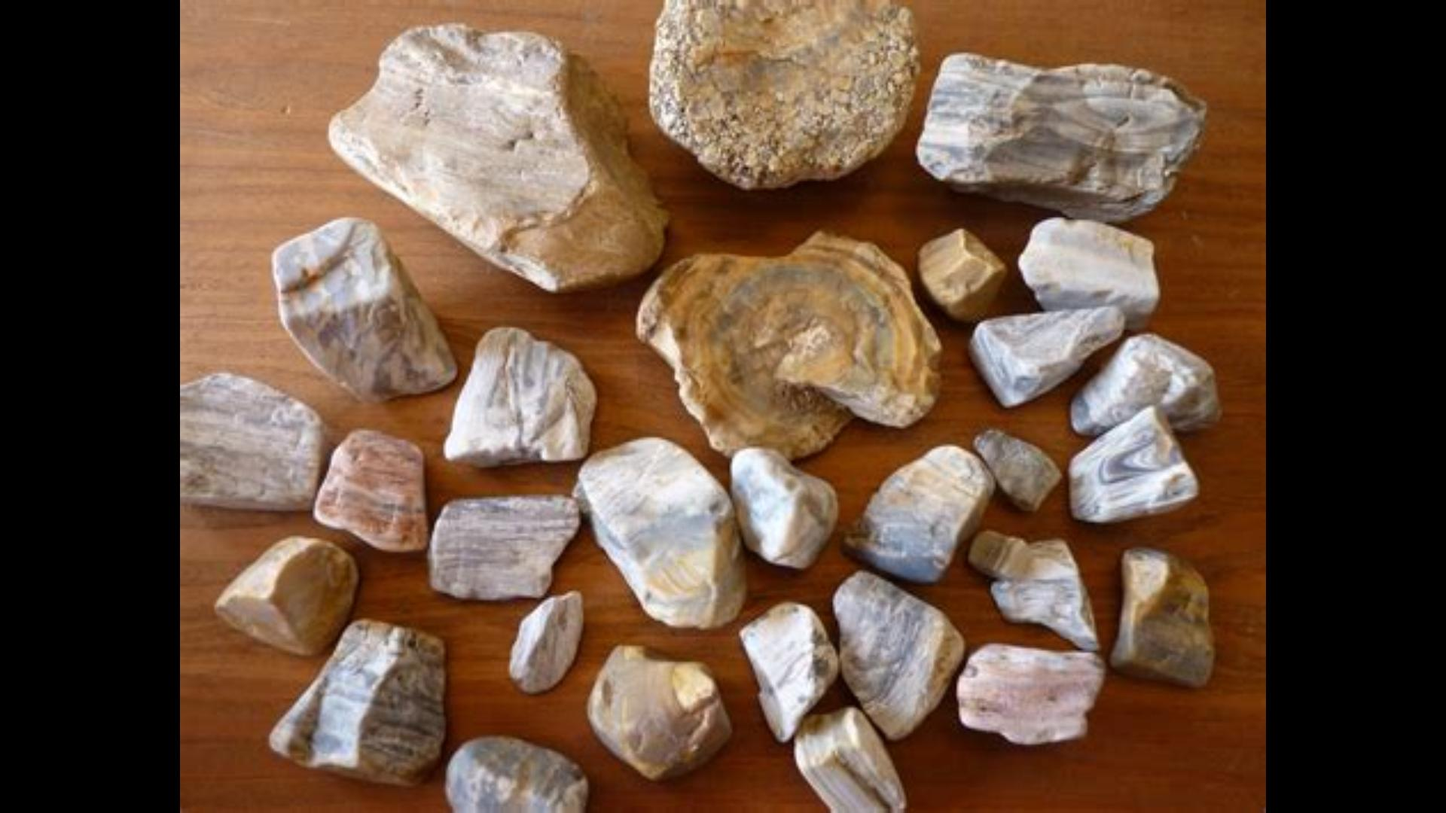rock: (331, 25, 663, 289), (636, 234, 938, 456), (652, 0, 915, 186), (918, 53, 1204, 220), (276, 218, 455, 398), (574, 437, 744, 625), (272, 621, 443, 781), (443, 327, 595, 465), (835, 573, 961, 737), (844, 444, 991, 582), (180, 376, 327, 508), (588, 646, 730, 779), (214, 536, 356, 653), (968, 531, 1096, 648), (1019, 218, 1158, 325), (432, 495, 576, 598), (973, 307, 1122, 405), (1071, 334, 1218, 433), (1110, 547, 1213, 685), (959, 644, 1103, 742), (1071, 408, 1195, 520), (315, 431, 425, 550), (741, 602, 835, 740), (730, 449, 835, 563), (796, 710, 904, 811), (446, 737, 586, 811), (918, 229, 1003, 318), (510, 593, 579, 692), (975, 428, 1060, 508)
